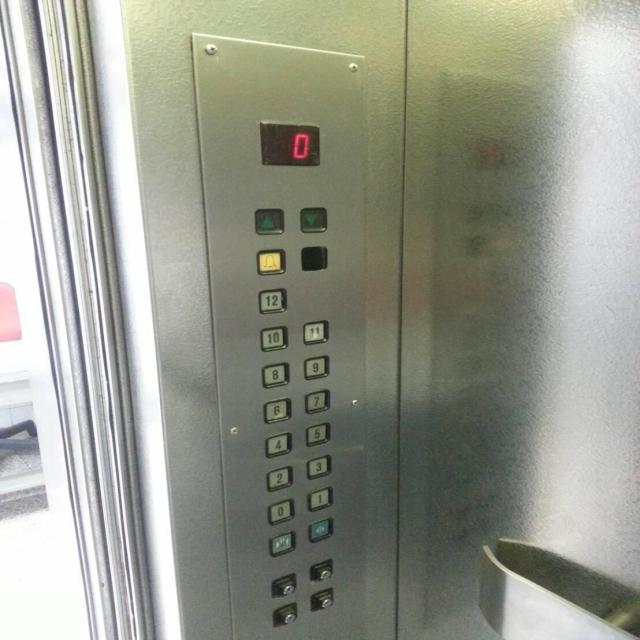0: (266, 498, 294, 525)
1: (307, 484, 332, 513)
10: (260, 324, 288, 352)
11: (302, 318, 328, 345)
12: (258, 288, 286, 313)
2: (266, 465, 292, 492)
3: (305, 453, 331, 480)
4: (264, 432, 291, 458)
5: (307, 421, 330, 446)
6: (263, 397, 291, 425)
7: (304, 390, 329, 415)
8: (261, 361, 288, 389)
9: (302, 354, 328, 381)
alarm: (253, 248, 286, 276)
close: (267, 528, 295, 557)
down: (299, 206, 328, 232)
empty: (298, 245, 328, 271)
keyhole: (272, 600, 298, 628), (271, 570, 296, 598), (310, 557, 332, 584), (311, 585, 333, 612)
led: (260, 122, 320, 169)
open: (308, 516, 334, 544)
up: (253, 207, 284, 235)
